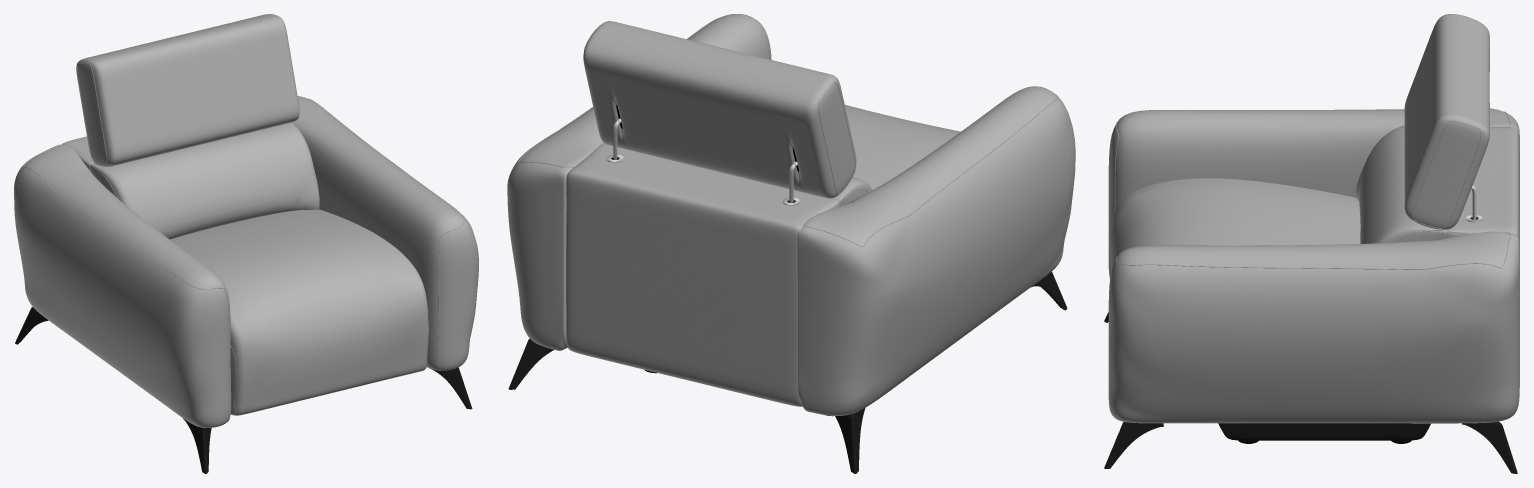
File: meiple.glb
3 renders of one model, left to right at view 1: azimuth 30°, elevation 25°; view 2: azimuth 150°, elevation 25°; view 3: azimuth 270°, elevation 25°, orthographic. The views are drawn at different scales.
Bounding box in the file's own units: 0.9896 × 0.8923 × 1.01.
Materials: 5 (2 with a texture image).
